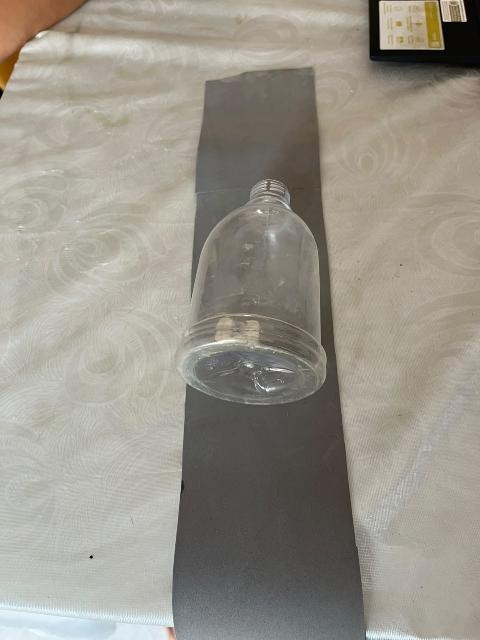PET: (128, 106, 422, 502)
